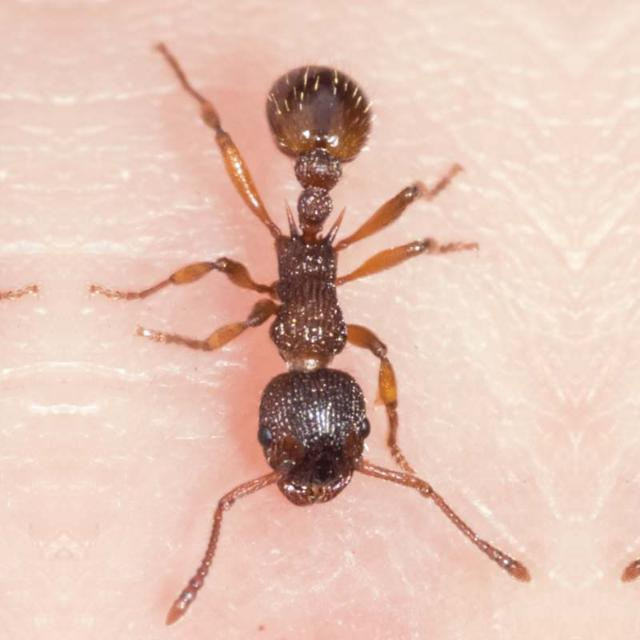Myrmica: (137, 21, 485, 579)
